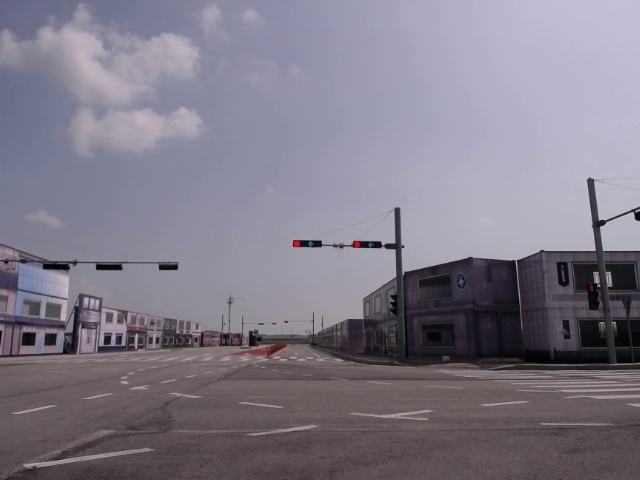left_green_4: (293, 239, 322, 247), (354, 240, 382, 248)
